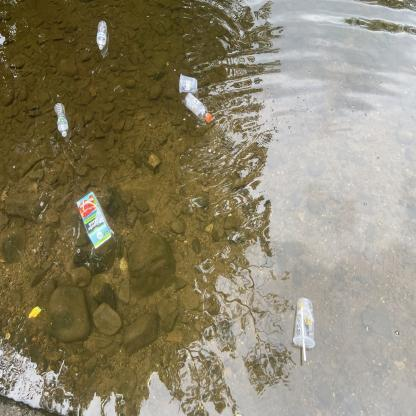trash: (66, 191, 121, 252), (289, 294, 320, 366), (178, 89, 215, 125), (51, 100, 72, 142), (174, 72, 204, 98), (95, 16, 112, 52), (240, 233, 258, 265)
